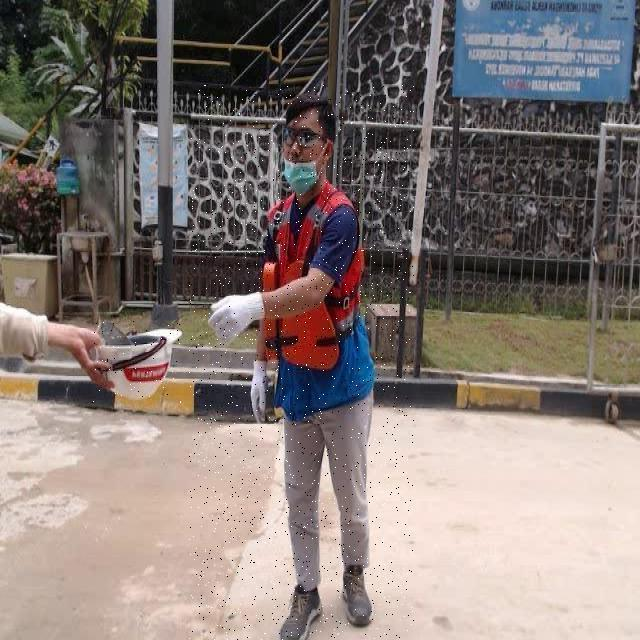gloves: (208, 286, 264, 348), (251, 357, 270, 425)
goggles: (281, 124, 327, 148)
helmet: (92, 321, 182, 403)
safety_vest: (259, 182, 377, 415)
